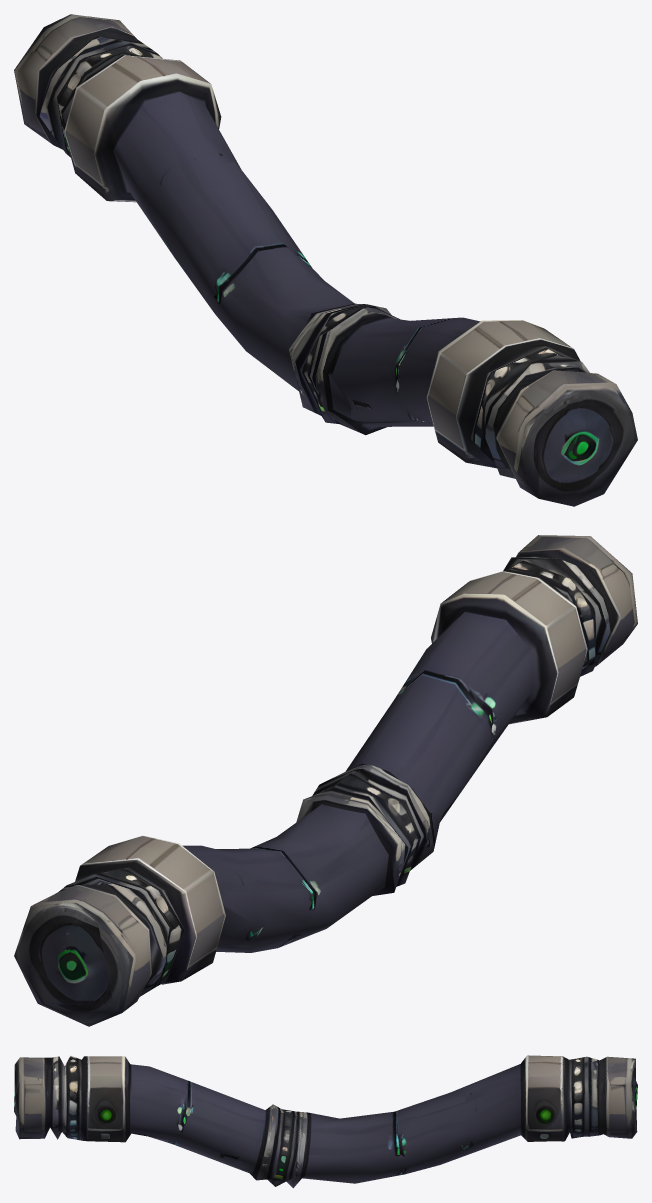
File: flexible+pipe+3d+model.obj
3 views of the same model, one above another, from view 1: azimuth 30°, elevation 25°; view 2: azimuth 150°, elevation 25°; view 3: azimuth 270°, elevation 25° (orthographic). The views are drawn at different scales.
Visible parts, largest first — view 1: tripo_node_99918793-a223-4d58-8b06-f79b227e4ce5; view 2: tripo_node_99918793-a223-4d58-8b06-f79b227e4ce5; view 3: tripo_node_99918793-a223-4d58-8b06-f79b227e4ce5.
Part boxes in pixels (x1,y1,x2,y2): tripo_node_99918793-a223-4d58-8b06-f79b227e4ce5: [14, 14, 637, 506]; tripo_node_99918793-a223-4d58-8b06-f79b227e4ce5: [14, 535, 637, 1026]; tripo_node_99918793-a223-4d58-8b06-f79b227e4ce5: [14, 1055, 637, 1188].
Bounding box in the file's own units: 0.146 × 0.2235 × 1.
1 material, 1 textured.
